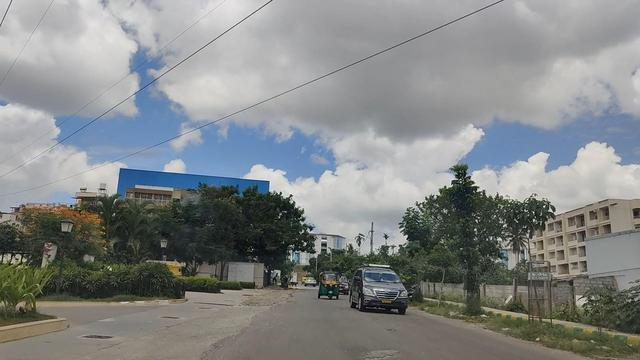RoadDamages: (196, 300, 269, 360), (354, 332, 406, 360)
